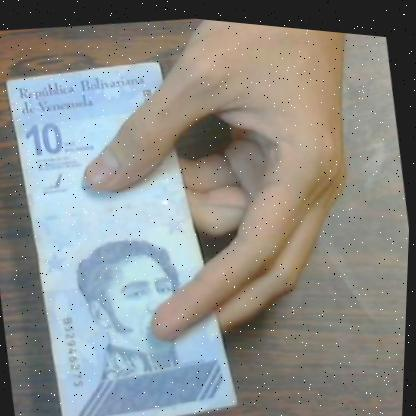ten-front-vef: (0, 43, 252, 416)
